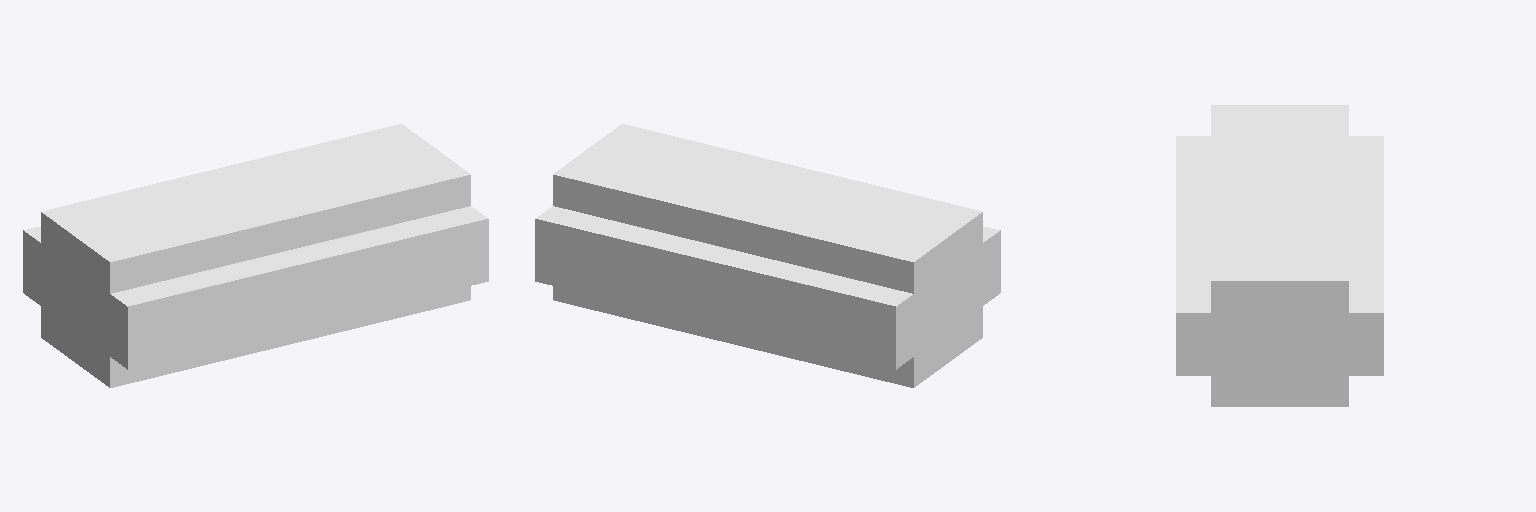
Rendered from cooked_hotdog.obj.
3 views of the same model, side by side, from view 1: azimuth 30°, elevation 25°; view 2: azimuth 150°, elevation 25°; view 3: azimuth 270°, elevation 25° (orthographic).
Visible parts, largest first — view 1: cooked_hotdog; view 2: cooked_hotdog; view 3: cooked_hotdog.
Part boxes in pixels (bbox=[...]): cooked_hotdog: bbox=[23, 124, 488, 387]; cooked_hotdog: bbox=[535, 124, 1000, 387]; cooked_hotdog: bbox=[1176, 105, 1383, 406].
Bounding box in the file's own units: 12 × 4 × 6.